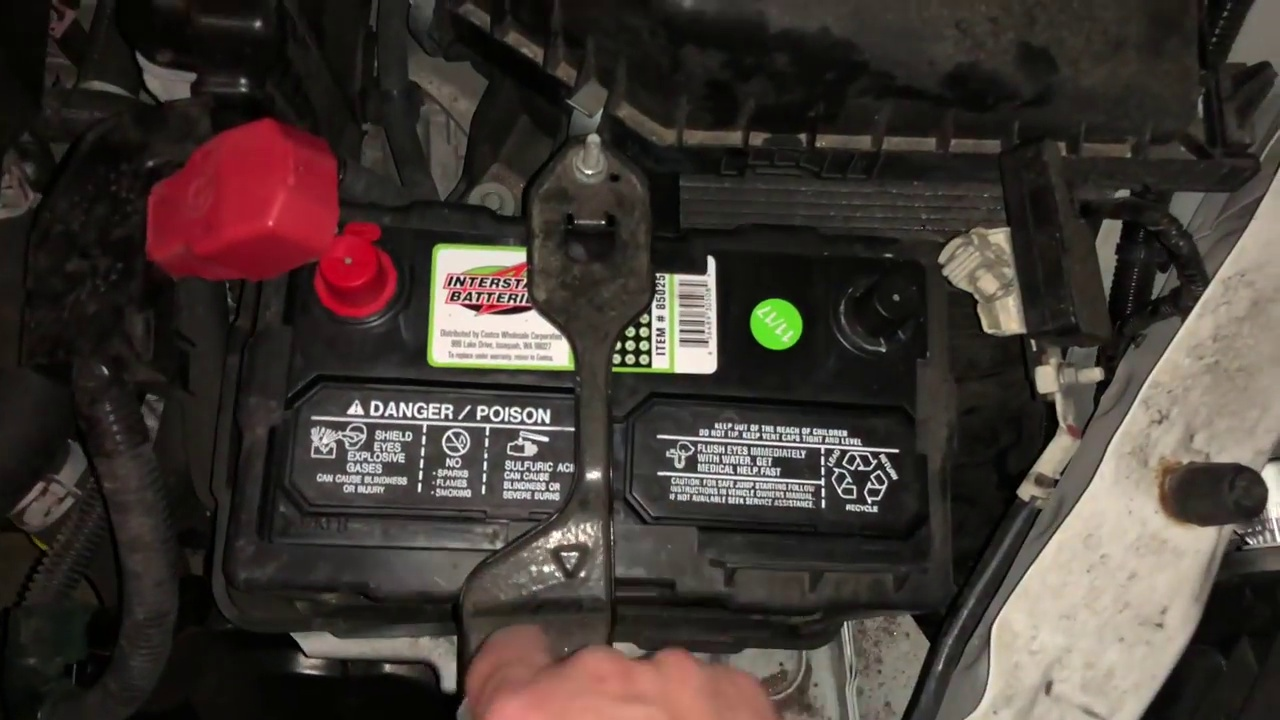battery: (231, 192, 961, 607)
pos_disconnected: (125, 148, 422, 325)
